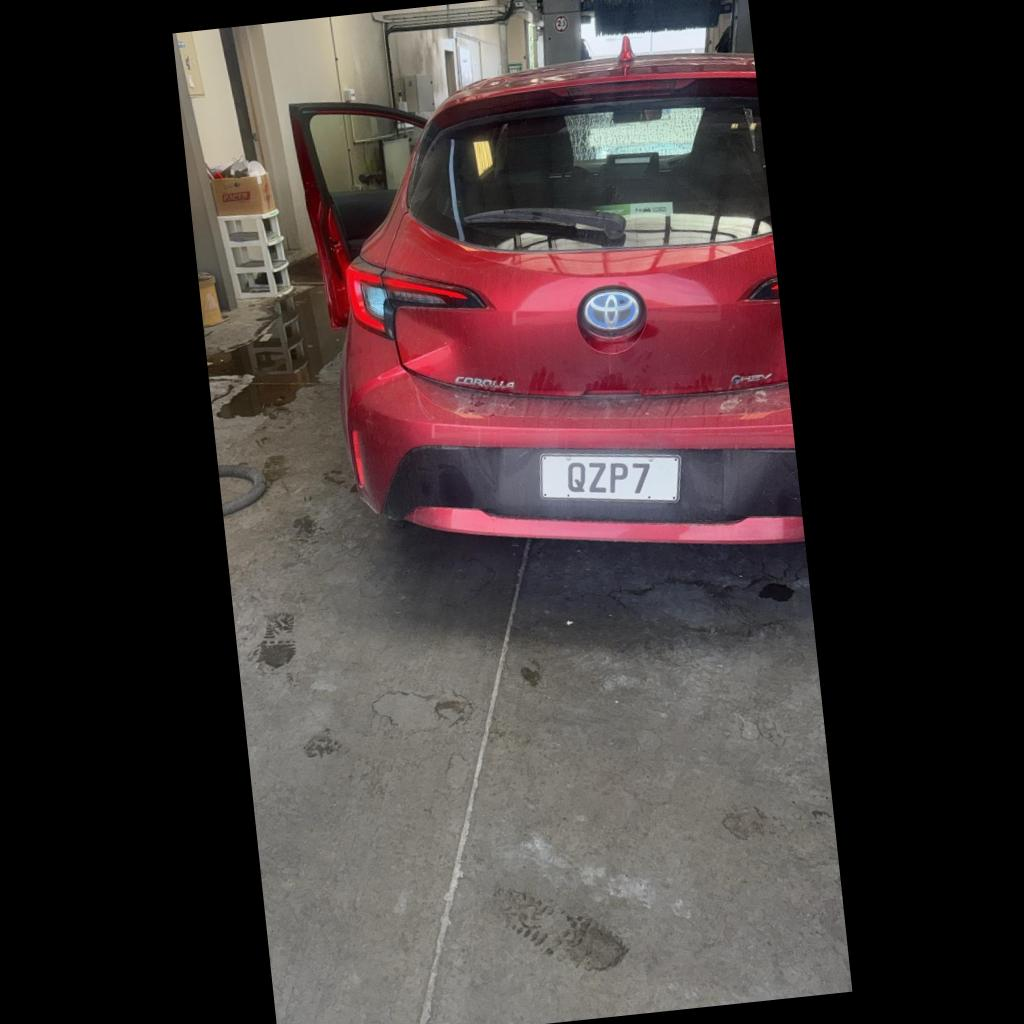Number-Plates: (522, 439, 704, 521)
